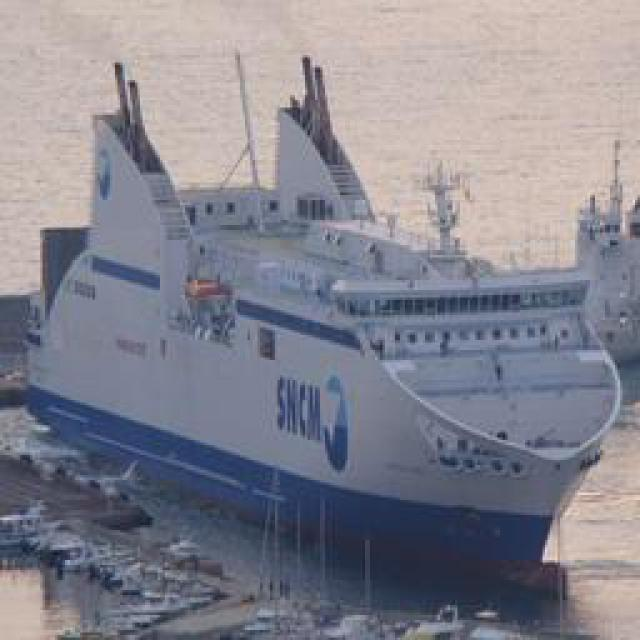Ship: (19, 50, 622, 590)
